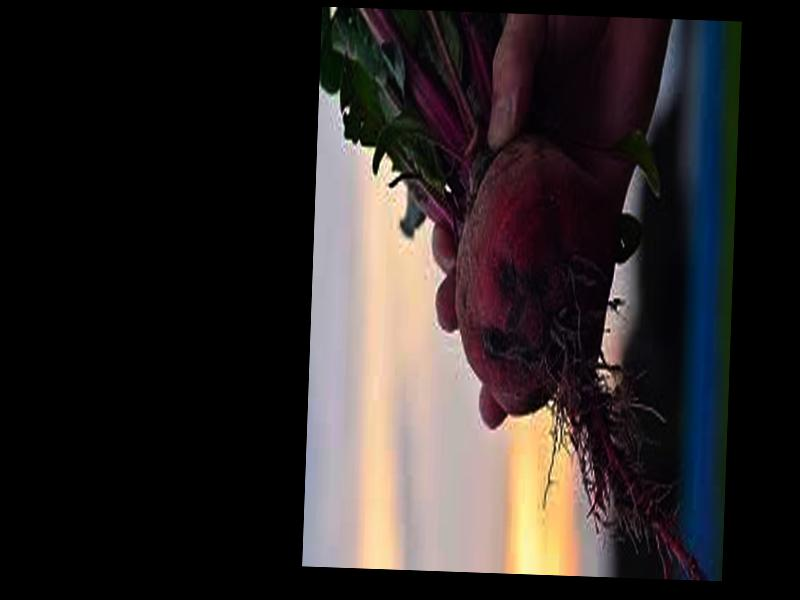Beet: (304, 10, 722, 580)
